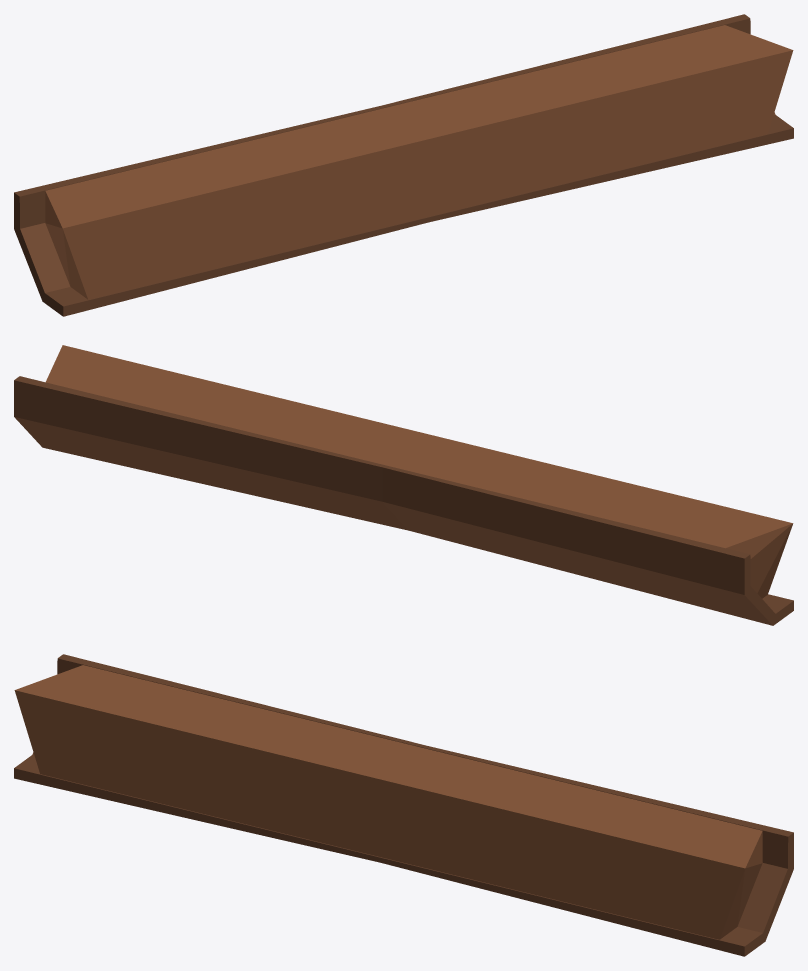
The model's file is Log_3_Brown.fbx.
The picture shows the model from 3 angles, top to bottom: view 1: azimuth 30°, elevation 25°; view 2: azimuth 150°, elevation 25°; view 3: azimuth 330°, elevation 25°; orthographic projection.
Parts seen in each view (by area): view 1: Log_3_Brown; view 2: Log_3_Brown; view 3: Log_3_Brown.
Boxes of the visible parts, bbox=[...] form: Log_3_Brown: bbox=[14, 14, 793, 316]; Log_3_Brown: bbox=[14, 345, 793, 625]; Log_3_Brown: bbox=[14, 654, 793, 956].
Size of the model in its own units: 200 by 23.09 by 23.37.
